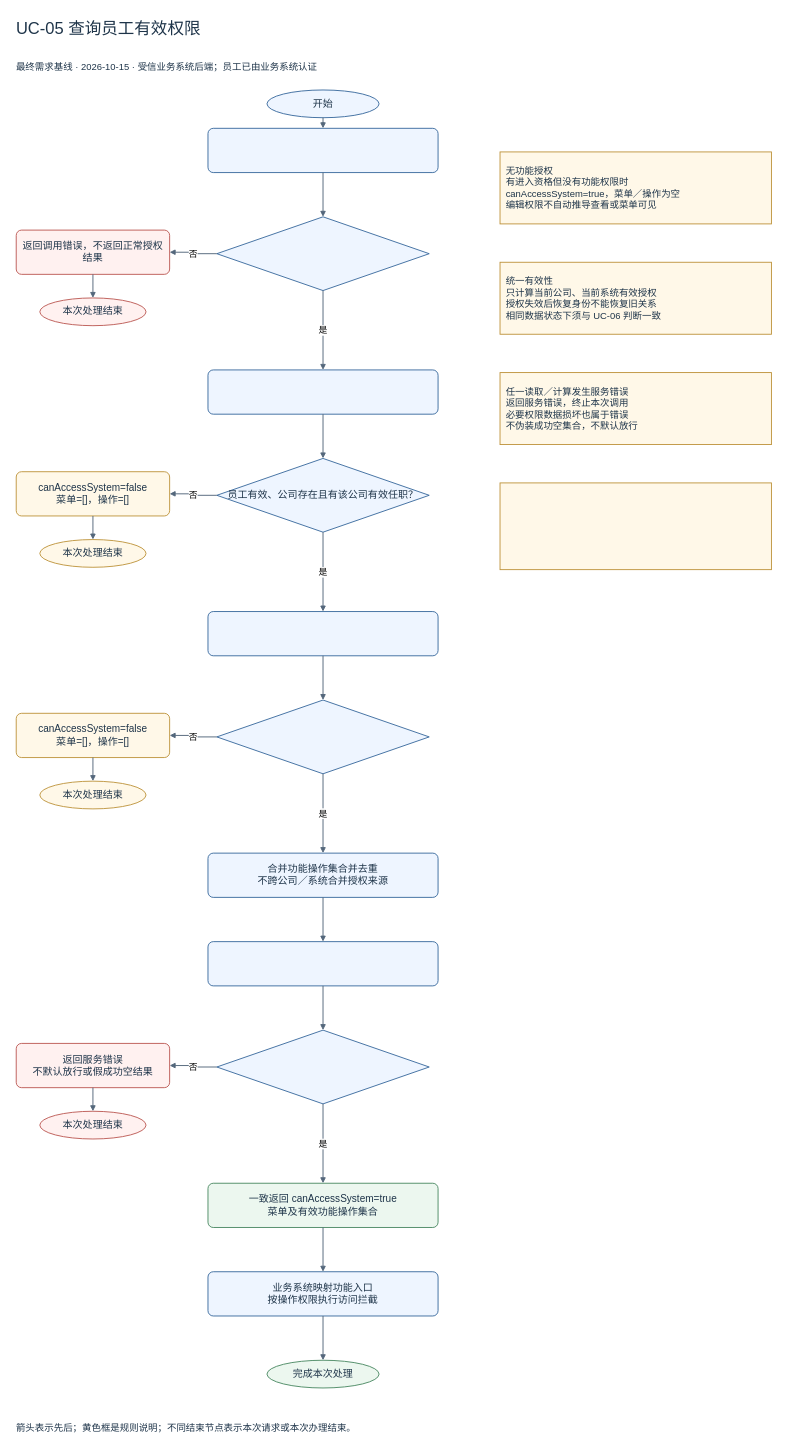
This 799x1451 diagram has some shape labels left out. The shapes that lost their labels are listed below. From the top down, each one's box as (x1, y1, x2, y2) in pixels, then its label:
(207, 128, 438, 173): 提交服务凭据、员工、当前公司及系统
(216, 216, 429, 291): 参数、服务身份与系统绑定合法？
(207, 369, 438, 414): 读取员工、公司及当前任职状态
(499, 482, 772, 570): 外部职责 服务凭据证明调用系统，不证明员工身份 员工标识来自业务系统受信登录上下文 本系统不设计业务数据权限 一期用简单 HTTP 调用演示
(207, 611, 438, 656): 一致读取当前公司、系统的有效角色 排除失效关系、未生效角色及无效目录
(216, 699, 429, 774): 具备该公司、该系统进入资格？
(207, 941, 438, 986): 按对应查看／进入权限生成可见菜单 补充必要祖先，标记仅导航容器
(216, 1029, 429, 1104): 授权读取、目录及功能权限计算正常完成？
